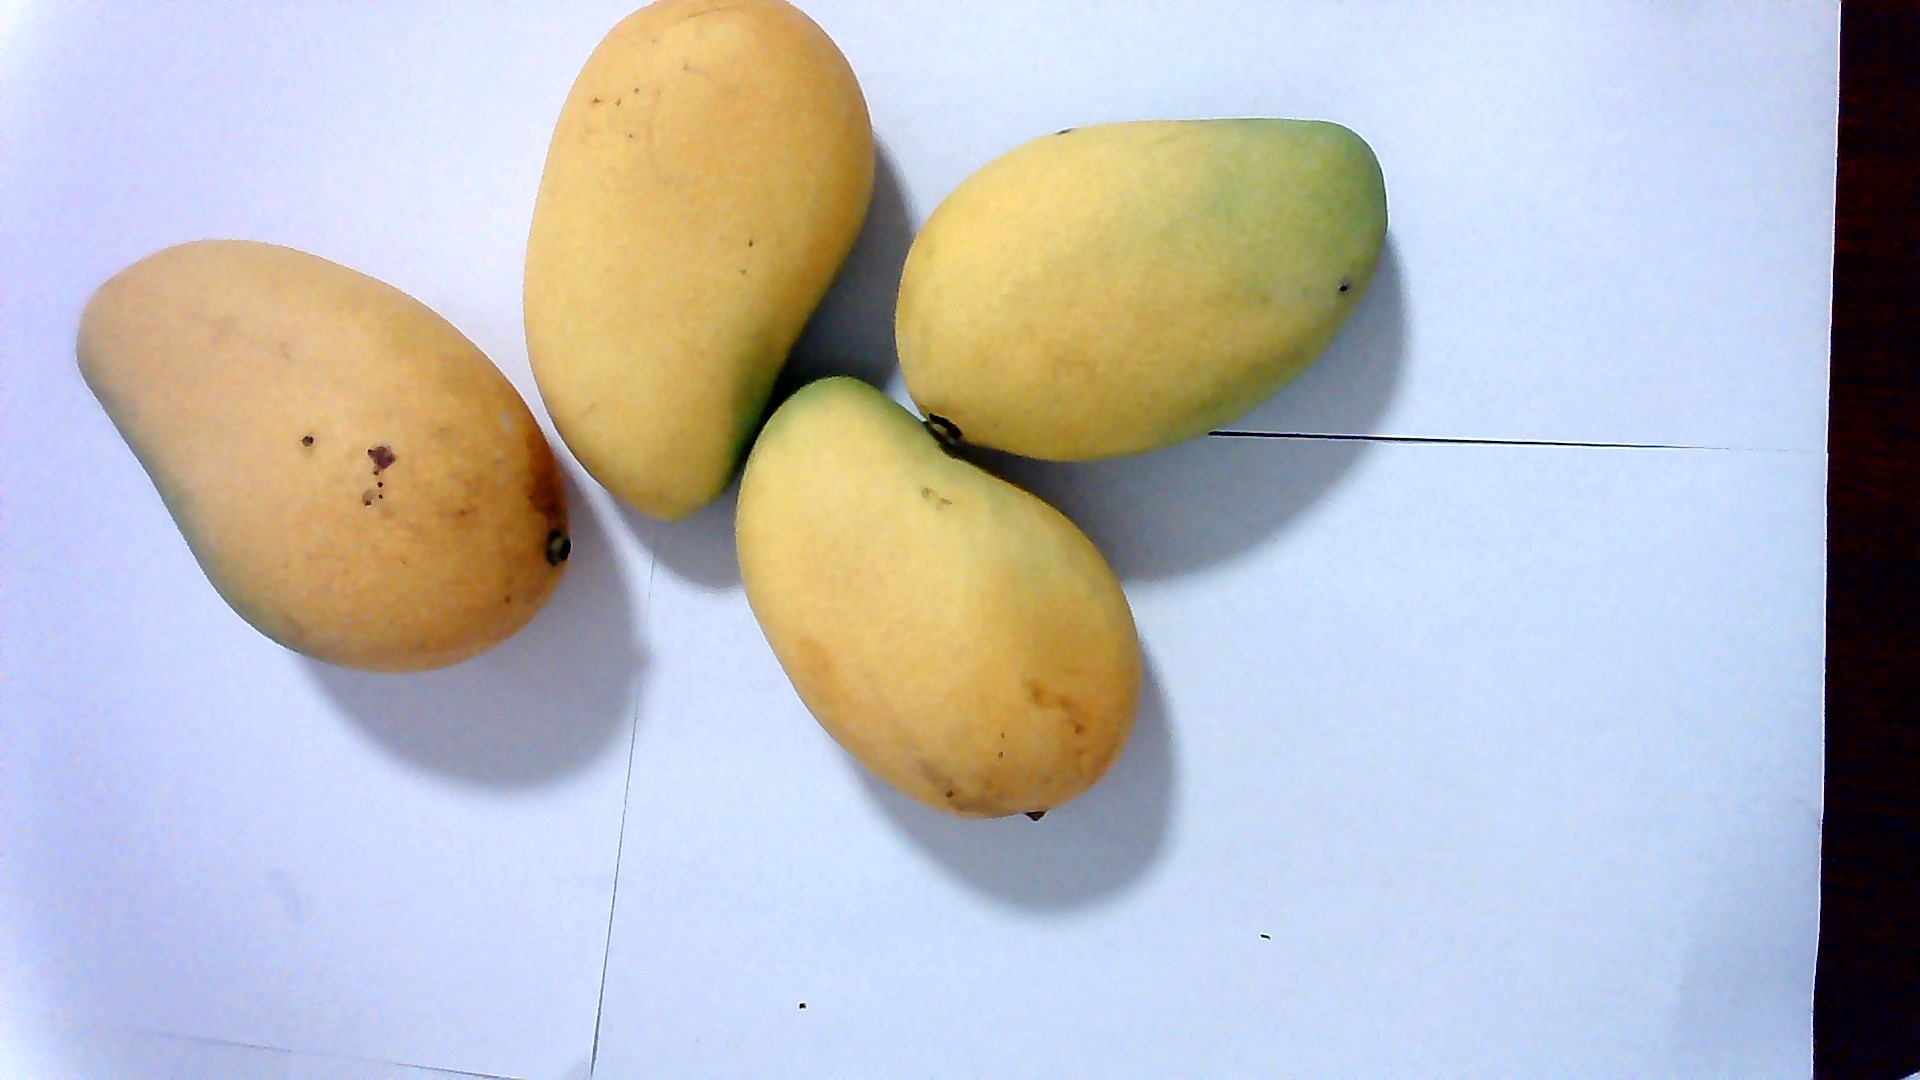mongo: (69, 264, 582, 663), (899, 112, 1394, 459), (746, 386, 1137, 822), (520, 15, 844, 517)
